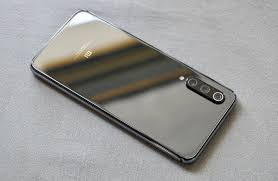mi: (29, 7, 242, 169)
